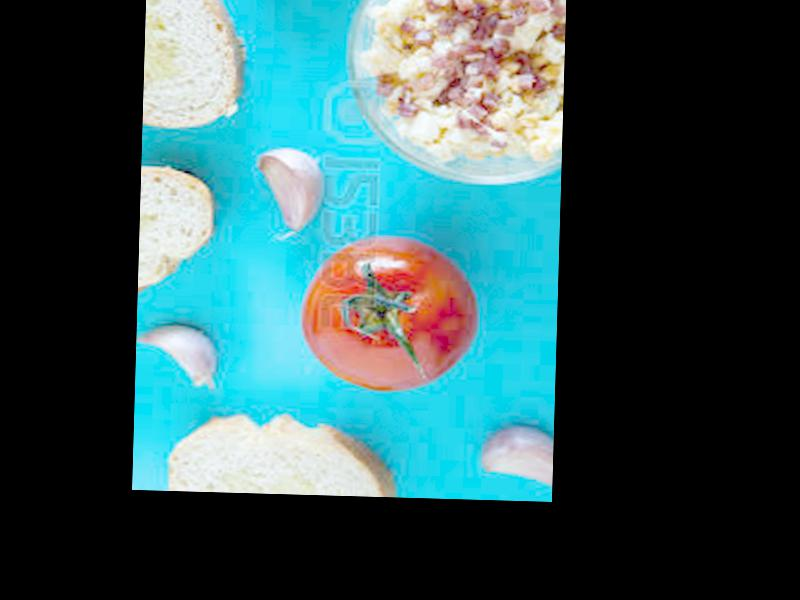Tomato: (298, 240, 479, 394)
